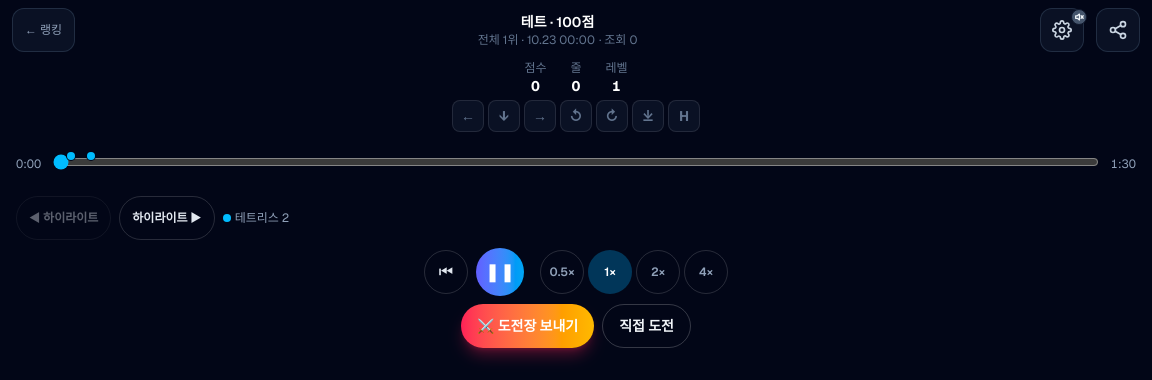
싱글 리플레이 재생기 (games-polish P4) › 막대를 끄는 동안은 재생을 멈추고 놓으면 이어서 — 재생이 손잡이를 되돌리지 않게 (FE-17)
Check: the button named "일시정지" is shown, box [476,248,524,296]
Step 1. Press the mouse on the slider with test id "tetris-replay-seek" → (576, 162), box [53,140,1099,184]
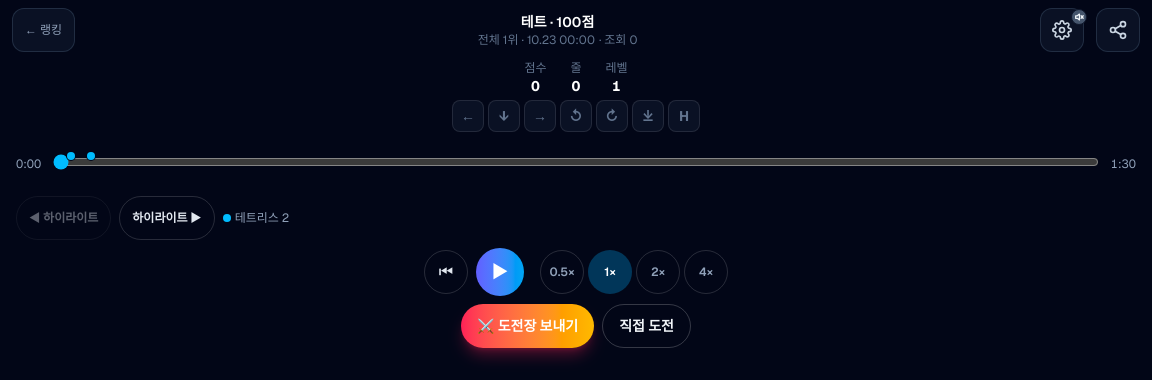
Check: the button named "재생" is shown, box [476,248,524,296]
Step 2. Set the slider with test id "tetris-replay-seek" to "1200" → (288, 162), box [53,140,1099,184]
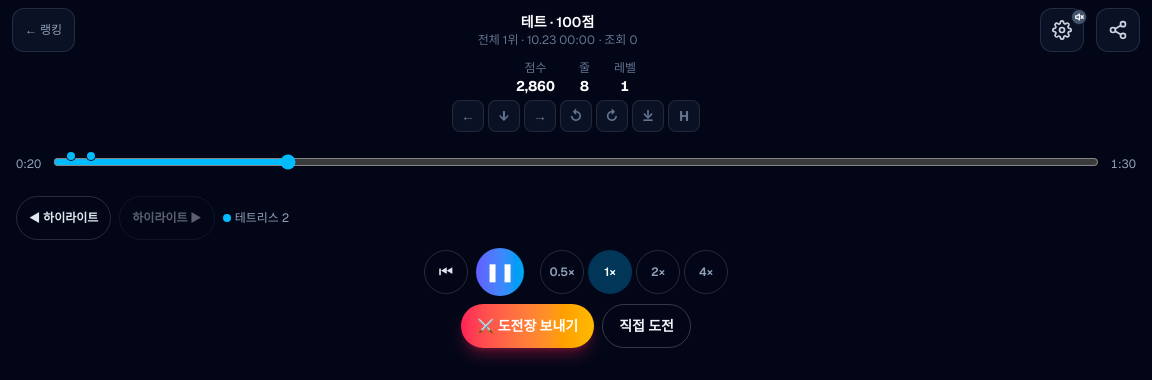
Check: the button named "일시정지" is shown, box [476,248,524,296]
